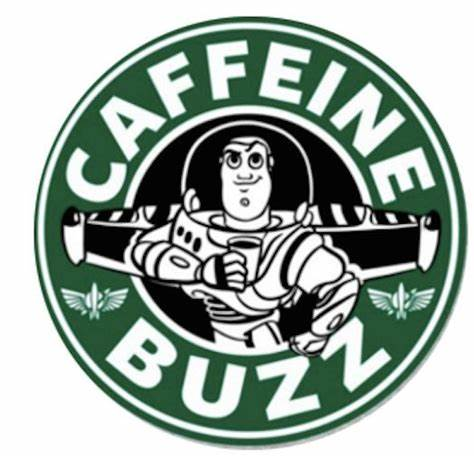starbucks Fake: (29, 9, 474, 448)
